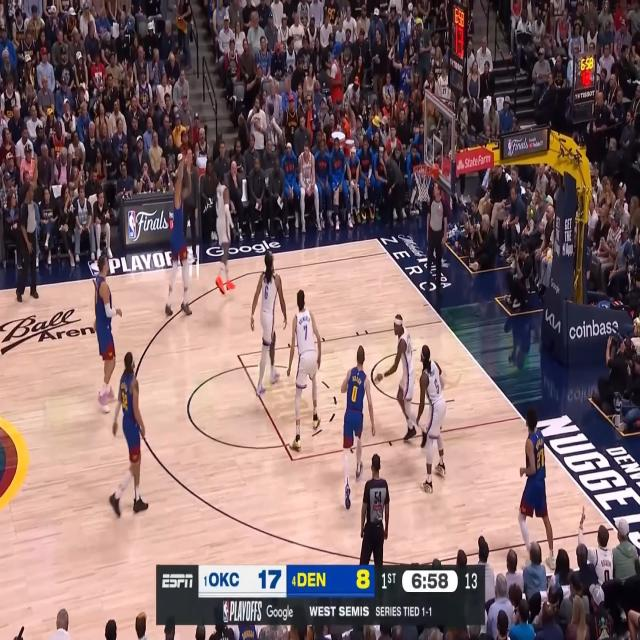ball: (250, 10, 260, 27)
number: (536, 448, 544, 470), (350, 383, 358, 403), (432, 376, 440, 395), (121, 392, 128, 412), (302, 323, 308, 342), (264, 284, 269, 300)
player: (109, 349, 150, 518), (517, 408, 557, 574), (340, 345, 376, 512), (286, 289, 322, 454), (92, 251, 126, 415), (374, 314, 417, 443), (251, 254, 286, 395), (417, 342, 447, 492), (212, 164, 236, 297)
player-jump-shot: (164, 148, 194, 317)
referee: (359, 453, 390, 566), (14, 181, 42, 303), (424, 180, 448, 293)
rim: (414, 162, 432, 177)
